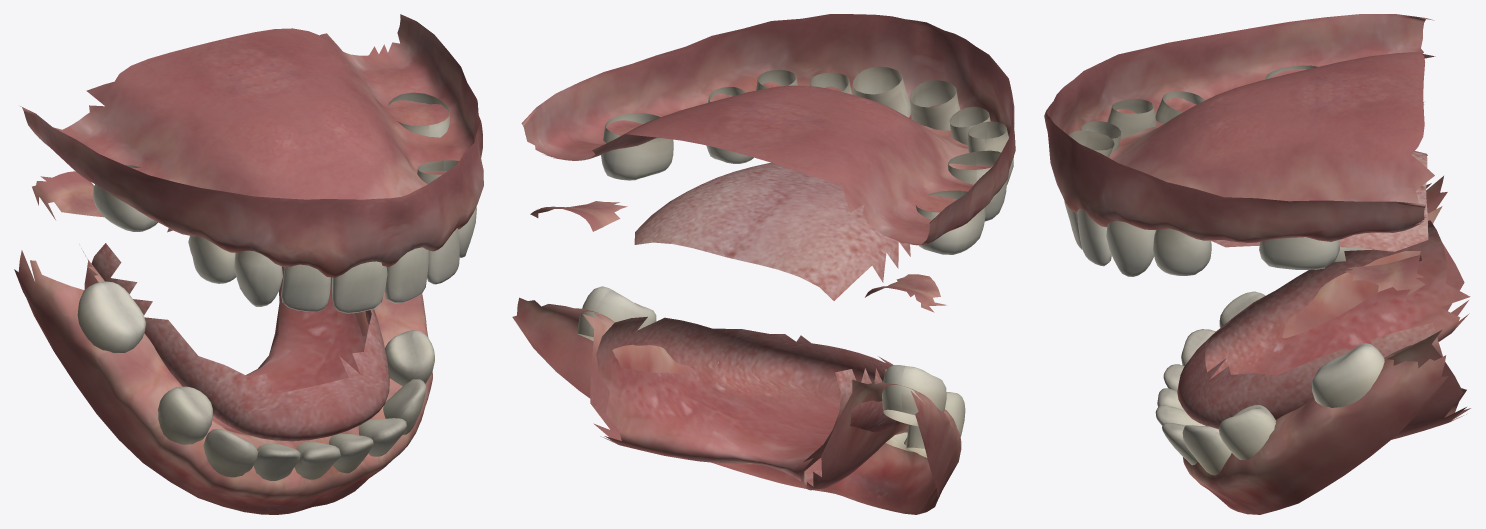
File: dental-arch-pediatric.glb
3 views of the same model, side by side, from view 1: azimuth 30°, elevation 25°; view 2: azimuth 150°, elevation 25°; view 3: azimuth 270°, elevation 25° (orthographic). The views are drawn at different scales.
Parts seen in each view (by area): view 1: Gums_Upper, Gums_Lower, Tooth_75, Tooth_74, Tooth_61, Tooth_84, Tooth_63, Tooth_62, Tooth_73, Tooth_51, Tooth_64, Tooth_65 (+8 smaller); view 2: Gums_Upper, Gums_Lower, Tooth_55, Tooth_75, Tooth_61, Tooth_85, Tooth_51, Tooth_65, Tooth_64, Tooth_63, Tooth_74, Tooth_62 (+3 smaller); view 3: Gums_Upper, Gums_Lower, Tooth_85, Tooth_55, Tooth_54, Tooth_84, Tooth_53, Tooth_83, Tooth_63, Tooth_52, Tooth_61, Tooth_64 (+5 smaller).
Boxes of the visible parts, bbox=[...] form: Gums_Upper: bbox=[20, 14, 483, 277]; Gums_Lower: bbox=[14, 243, 432, 514]; Tooth_75: bbox=[77, 281, 145, 352]; Tooth_74: bbox=[157, 386, 212, 444]; Tooth_61: bbox=[332, 261, 387, 313]; Tooth_84: bbox=[385, 330, 434, 386]; Tooth_63: bbox=[234, 250, 282, 306]; Tooth_62: bbox=[281, 264, 330, 311]; Tooth_73: bbox=[203, 429, 258, 477]; Tooth_51: bbox=[385, 247, 428, 303]; Tooth_64: bbox=[188, 236, 236, 283]; Tooth_65: bbox=[92, 165, 157, 231]; Gums_Upper: bbox=[521, 14, 1015, 312]; Gums_Lower: bbox=[512, 297, 961, 514]; Tooth_55: bbox=[601, 113, 673, 180]; Tooth_75: bbox=[882, 365, 946, 426]; Tooth_61: bbox=[910, 80, 960, 130]; Tooth_85: bbox=[576, 286, 656, 341]; Tooth_51: bbox=[852, 66, 911, 117]; Tooth_65: bbox=[915, 190, 985, 254]; Tooth_64: bbox=[947, 150, 1006, 221]; Tooth_63: bbox=[967, 121, 1013, 185]; Tooth_74: bbox=[906, 392, 965, 454]; Tooth_62: bbox=[949, 106, 990, 145]; Gums_Upper: bbox=[1044, 14, 1435, 296]; Gums_Lower: bbox=[1177, 176, 1470, 514]; Tooth_85: bbox=[1312, 343, 1384, 407]; Tooth_55: bbox=[1259, 237, 1339, 269]; Tooth_54: bbox=[1153, 228, 1211, 275]; Tooth_84: bbox=[1219, 405, 1275, 460]; Tooth_53: bbox=[1106, 221, 1155, 276]; Tooth_83: bbox=[1182, 425, 1231, 475]; Tooth_63: bbox=[1107, 99, 1156, 139]; Tooth_52: bbox=[1077, 208, 1111, 266]; Tooth_61: bbox=[1069, 130, 1114, 157]; Tooth_64: bbox=[1155, 91, 1204, 123].
Size of the model in its own units: 6.3 by 6.24 by 6.06.
Materials: 2 (2 with a texture image).
